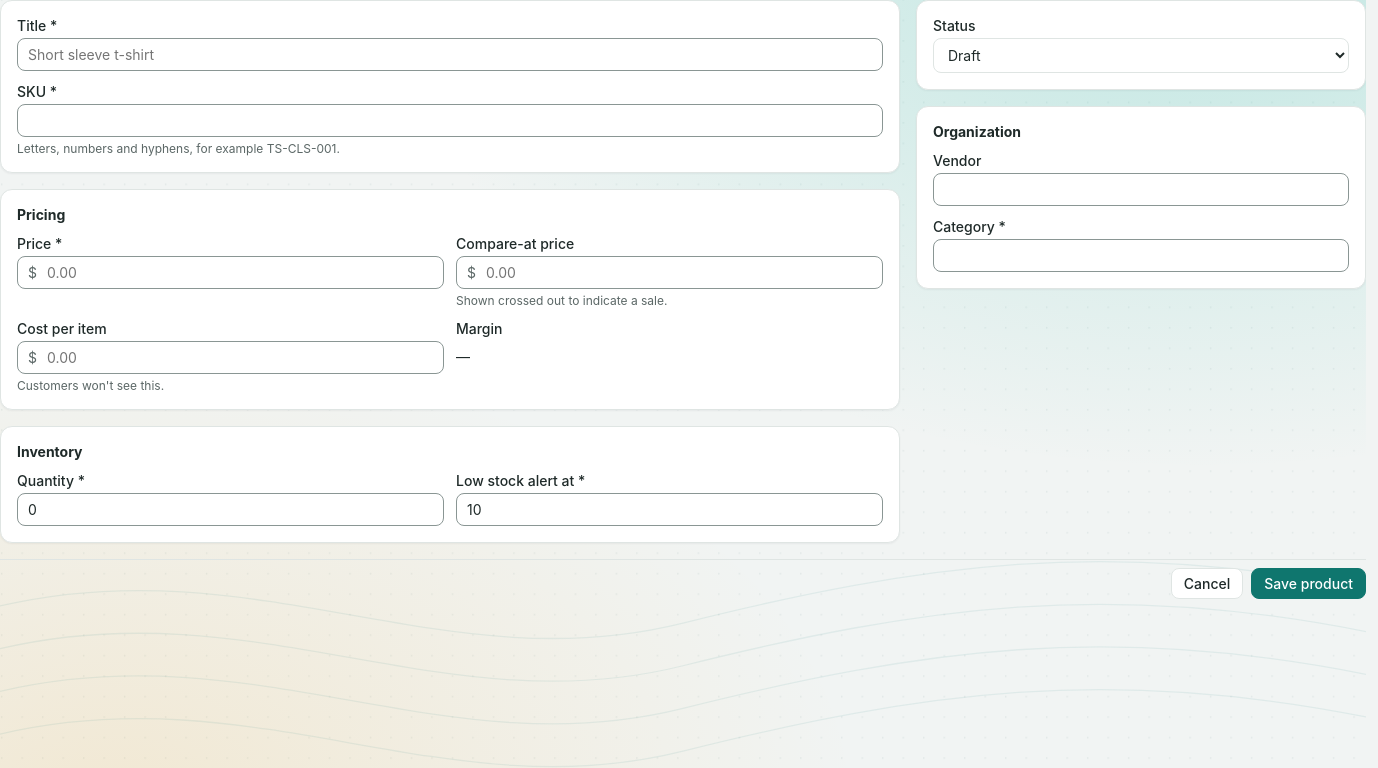
Test: ProductForm › rejects a SKU that is already in use
Type "TS-CLS-001" into the field labelled "SKU *". click: (450, 120)
box: [18,105,882,136]
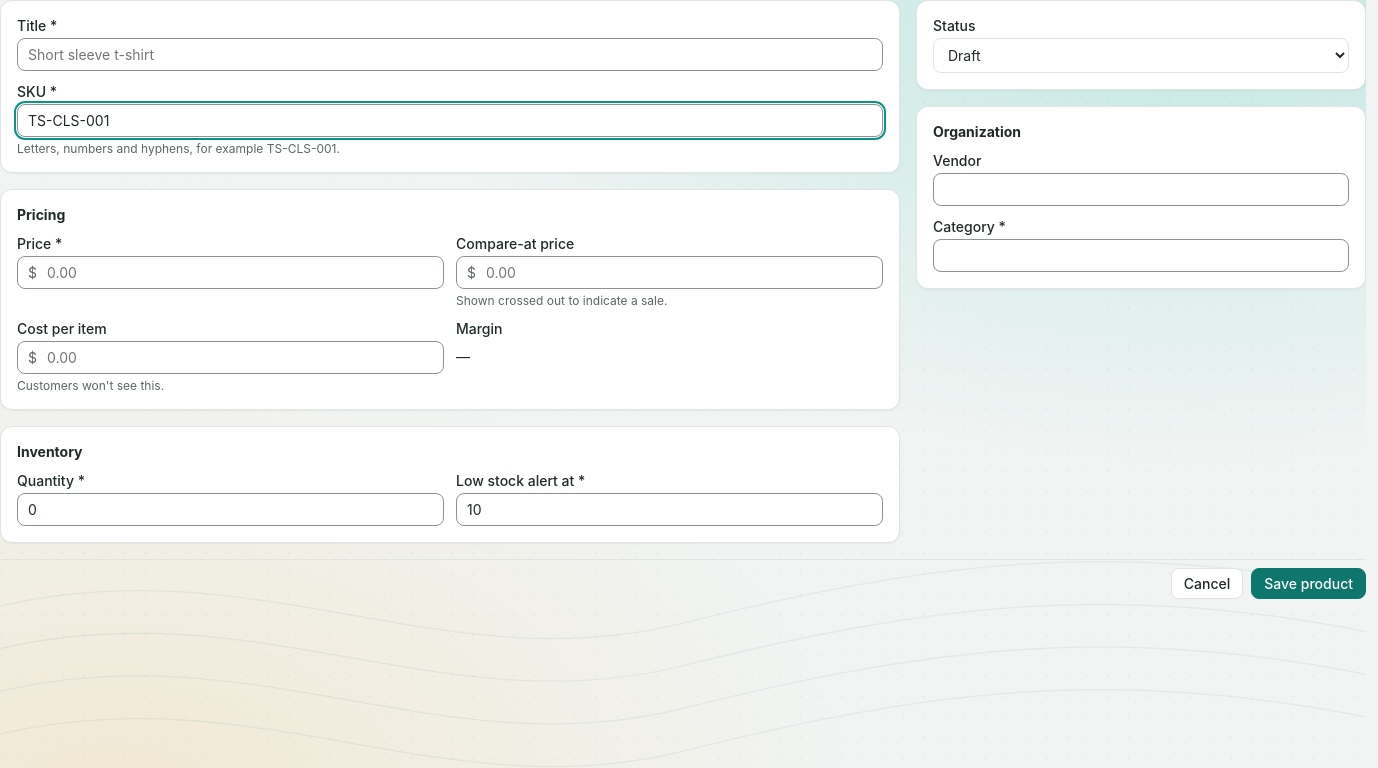
Press Tab
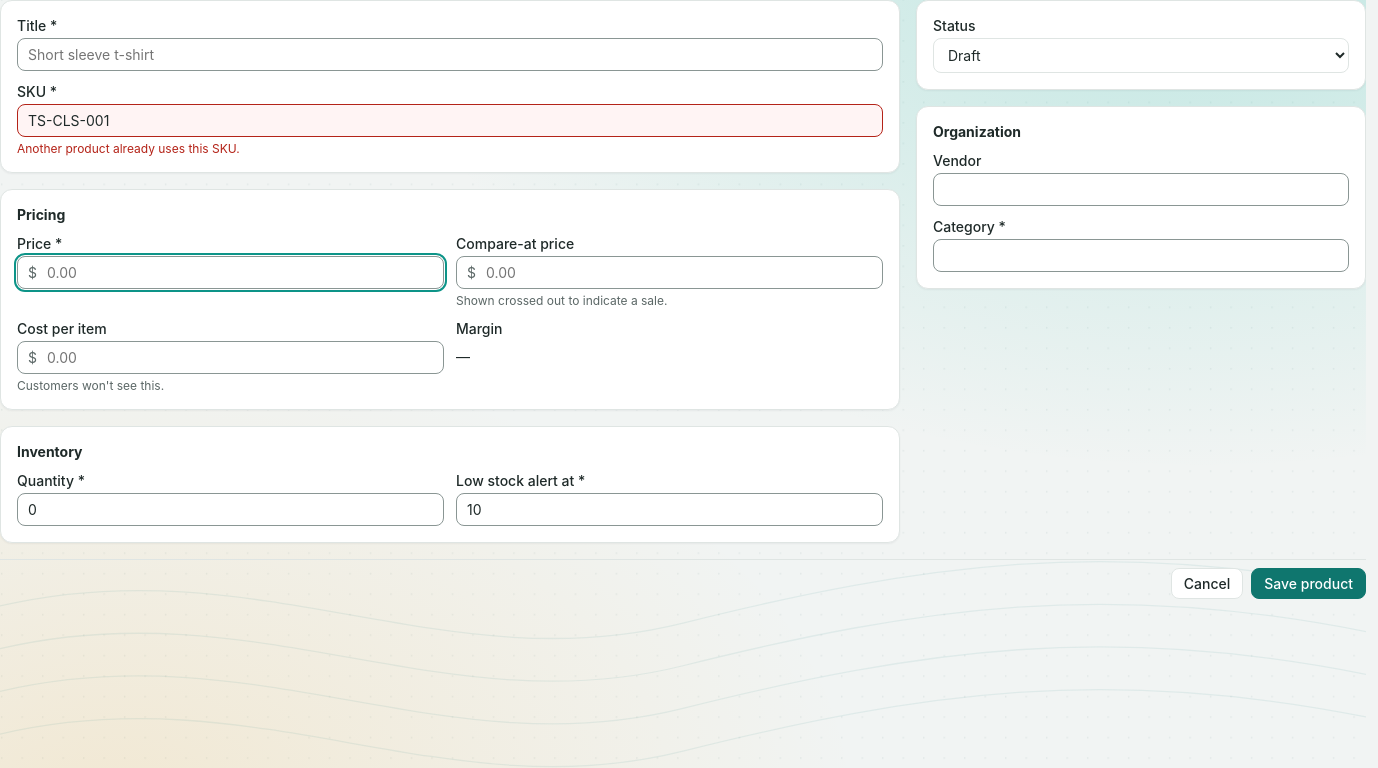
Now the text "Another product already uses this SKU." is shown, box [17,141,240,156]
